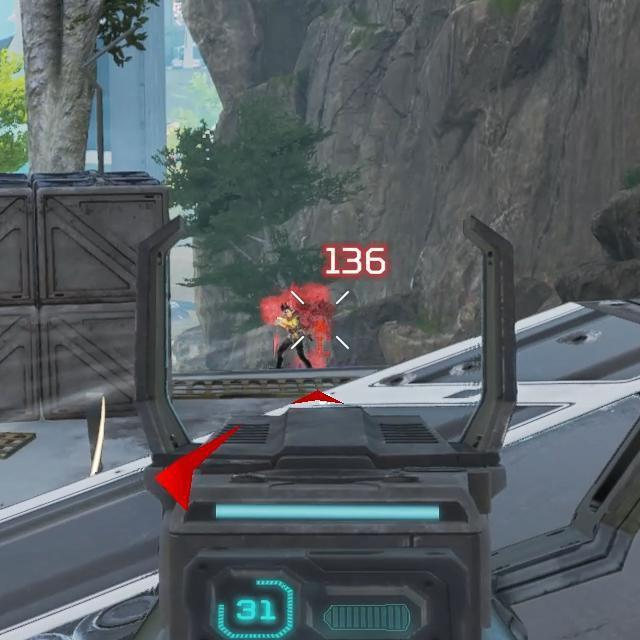avatar: (273, 302, 314, 371)
